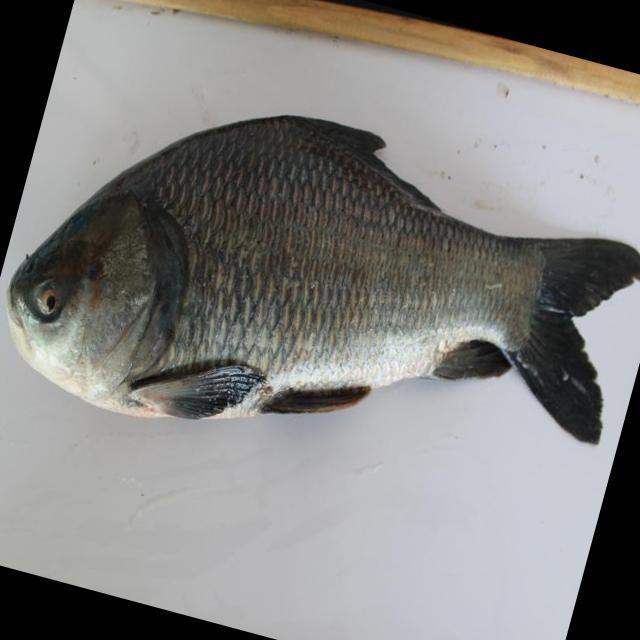Catla: (5, 108, 618, 452)
